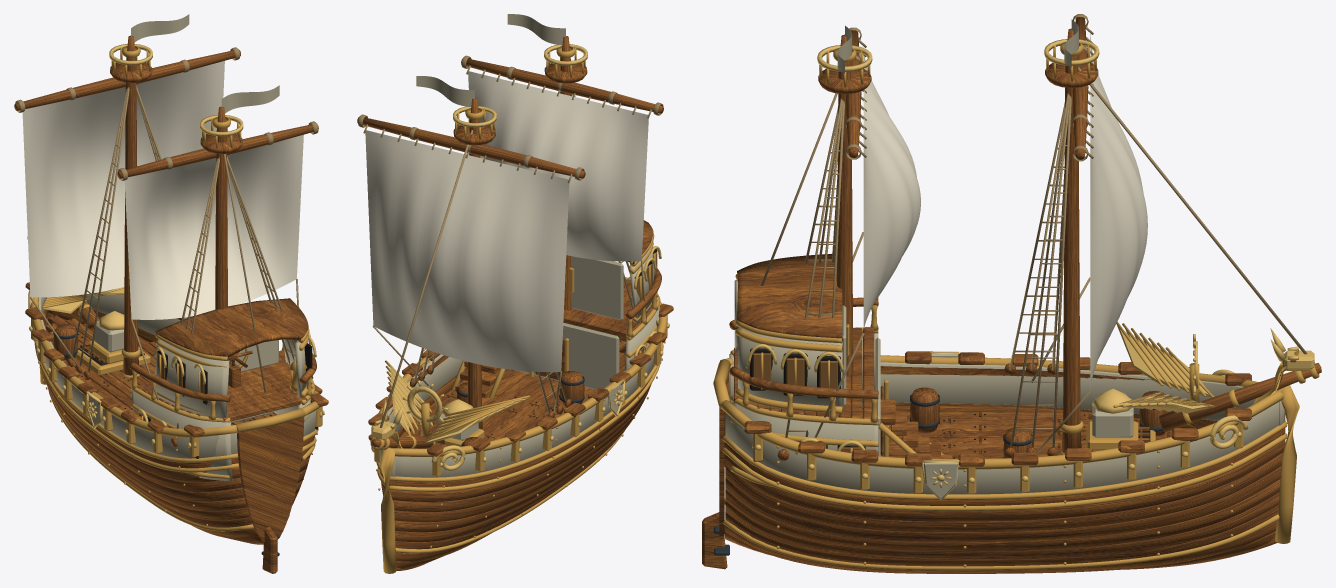
File: paladin-t3.glb
The picture shows the model from 3 angles, left to right: view 1: azimuth 30°, elevation 25°; view 2: azimuth 150°, elevation 25°; view 3: azimuth 270°, elevation 25°; orthographic projection. The views are drawn at different scales.
Visible parts, largest first — view 1: Fleet Carved oak.009, Sail_0.008, Sail_1.005, Fleet Aged brass.009, Fleet Class enamel.009, Fleet Braided hemp.009, Fleet Brass edge.009, Pennant_1.005, Pennant_0.008, Fleet Recess.009; view 2: Sail_0.008, Fleet Carved oak.009, Sail_1.005, Fleet Aged brass.009, Fleet Class enamel.009, Fleet Brass edge.009, Fleet Braided hemp.009, Pennant_1.005, Pennant_0.008; view 3: Fleet Carved oak.009, Fleet Aged brass.009, Fleet Class enamel.009, Fleet Braided hemp.009, Sail_0.008, Sail_1.005, Fleet Brass edge.009, Fleet Amber glazing.009, Fleet Recess.009.
Boxes of the visible parts, bbox=[...] form: Fleet Carved oak.009: bbox=[14, 35, 328, 573]; Sail_0.008: bbox=[22, 61, 224, 297]; Sail_1.005: bbox=[124, 134, 303, 319]; Fleet Aged brass.009: bbox=[27, 46, 322, 531]; Fleet Class enamel.009: bbox=[37, 293, 316, 481]; Fleet Braided hemp.009: bbox=[15, 47, 318, 428]; Fleet Brass edge.009: bbox=[28, 44, 324, 447]; Pennant_1.005: bbox=[221, 85, 279, 113]; Pennant_0.008: bbox=[131, 14, 189, 42]; Fleet Recess.009: bbox=[49, 316, 318, 458]; Sail_0.008: bbox=[365, 130, 569, 372]; Fleet Carved oak.009: bbox=[357, 36, 673, 570]; Sail_1.005: bbox=[468, 71, 648, 261]; Fleet Aged brass.009: bbox=[370, 46, 667, 573]; Fleet Class enamel.009: bbox=[380, 245, 659, 477]; Fleet Brass edge.009: bbox=[371, 44, 669, 470]; Fleet Braided hemp.009: bbox=[358, 55, 663, 439]; Pennant_1.005: bbox=[507, 14, 565, 45]; Pennant_0.008: bbox=[416, 76, 474, 106]; Fleet Carved oak.009: bbox=[702, 17, 1321, 573]; Fleet Aged brass.009: bbox=[713, 42, 1319, 570]; Fleet Class enamel.009: bbox=[725, 280, 1284, 499]; Fleet Braided hemp.009: bbox=[734, 14, 1315, 453]; Sail_0.008: bbox=[1090, 32, 1147, 389]; Sail_1.005: bbox=[863, 47, 920, 329]; Fleet Brass edge.009: bbox=[747, 39, 1314, 500]; Fleet Amber glazing.009: bbox=[753, 353, 1296, 452]; Fleet Recess.009: bbox=[750, 348, 1150, 461].
Bounding box in the file's own units: 2.42 × 4.56 × 4.64.
9 materials, 1 textured.
